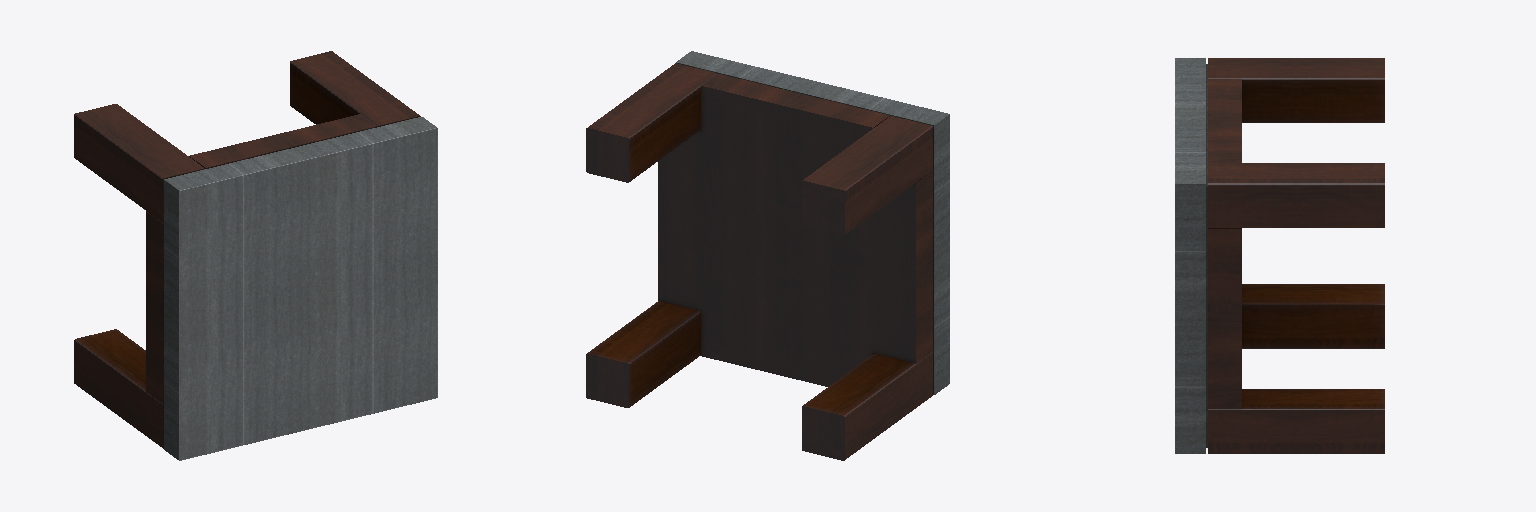
The picture shows the model from 3 angles: view 1: azimuth 30°, elevation 25°; view 2: azimuth 150°, elevation 25°; view 3: azimuth 270°, elevation 25°; orthographic projection.
Size of the model in its own units: 0.6823 by 0.6823 by 0.4808.
Materials: 1 (1 with a texture image).